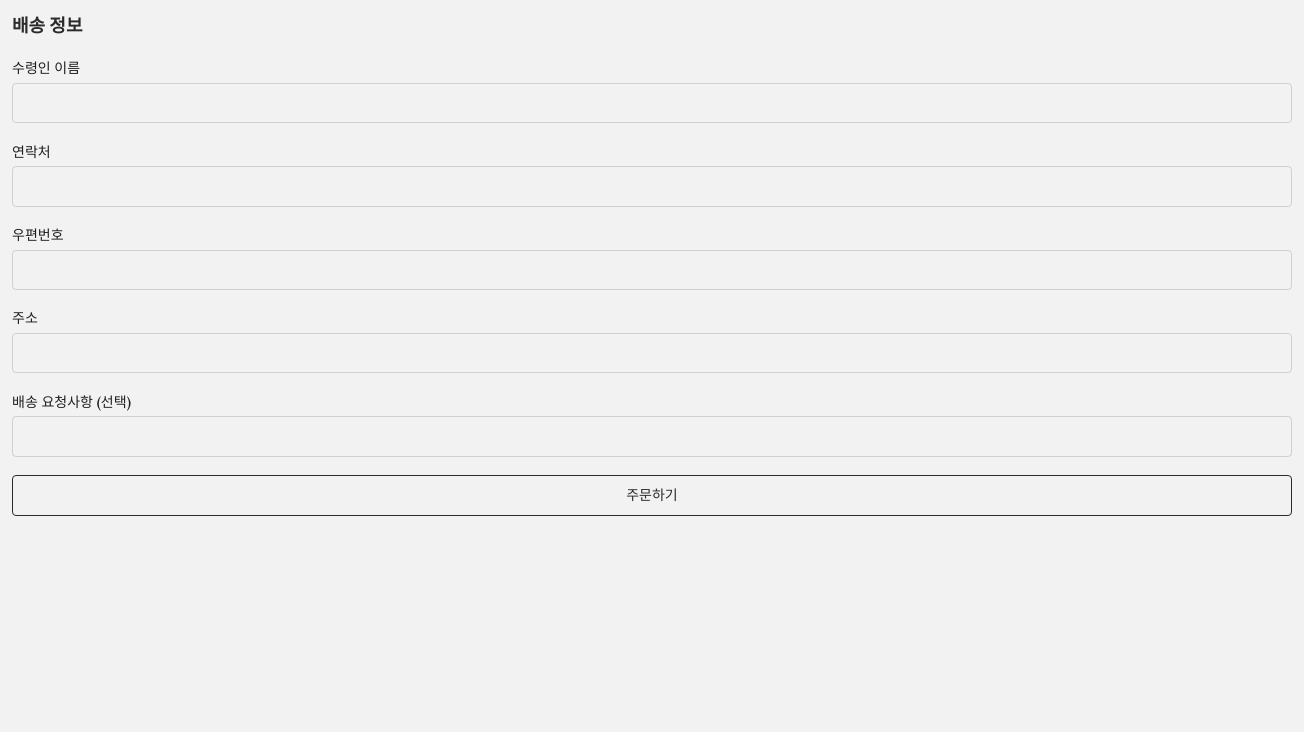
it: SPEC-ORDER-001 — how a refusal reaches the shopper (design.md §8) › says something useful when the request never reaches the server
Type "홍길동" into the field labelled "수령인 이름" at (652, 103), box 12,83 -> 1292,123
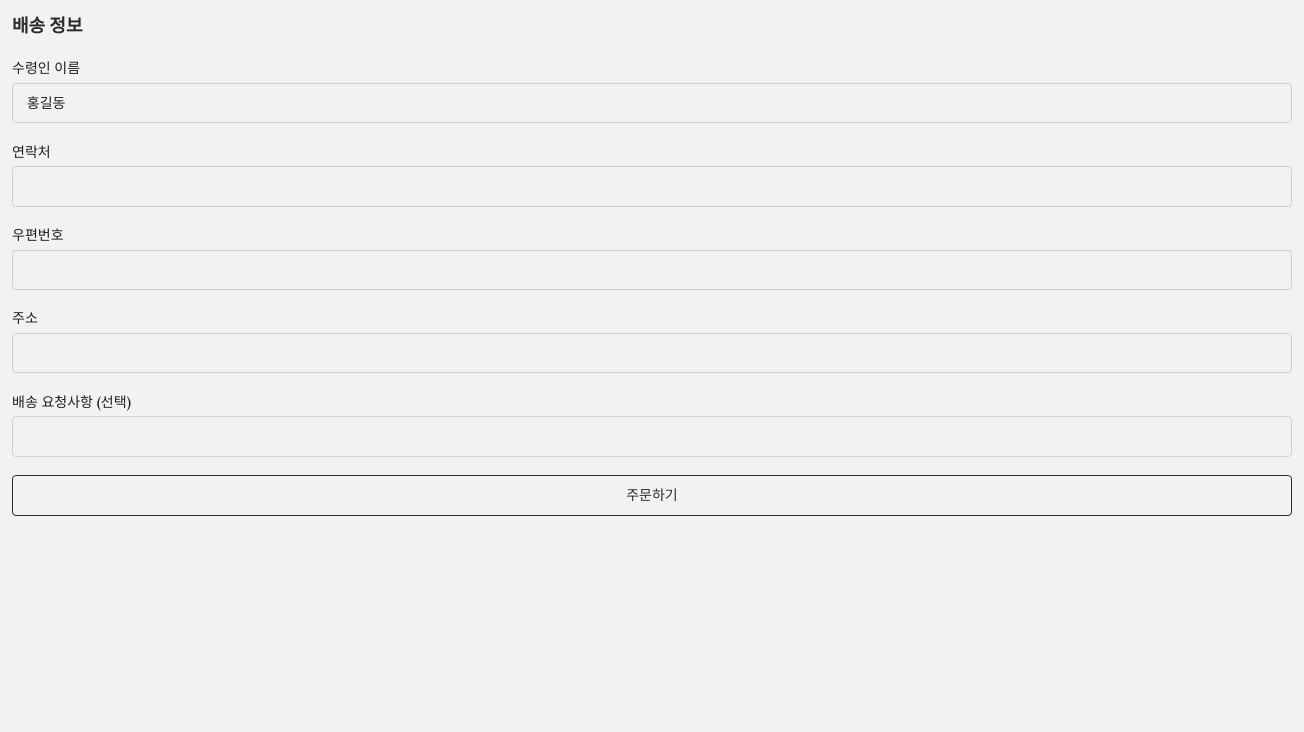
Type "010-1234-5678" into the field labelled "연락처" at (652, 186), box 12,166 -> 1292,207
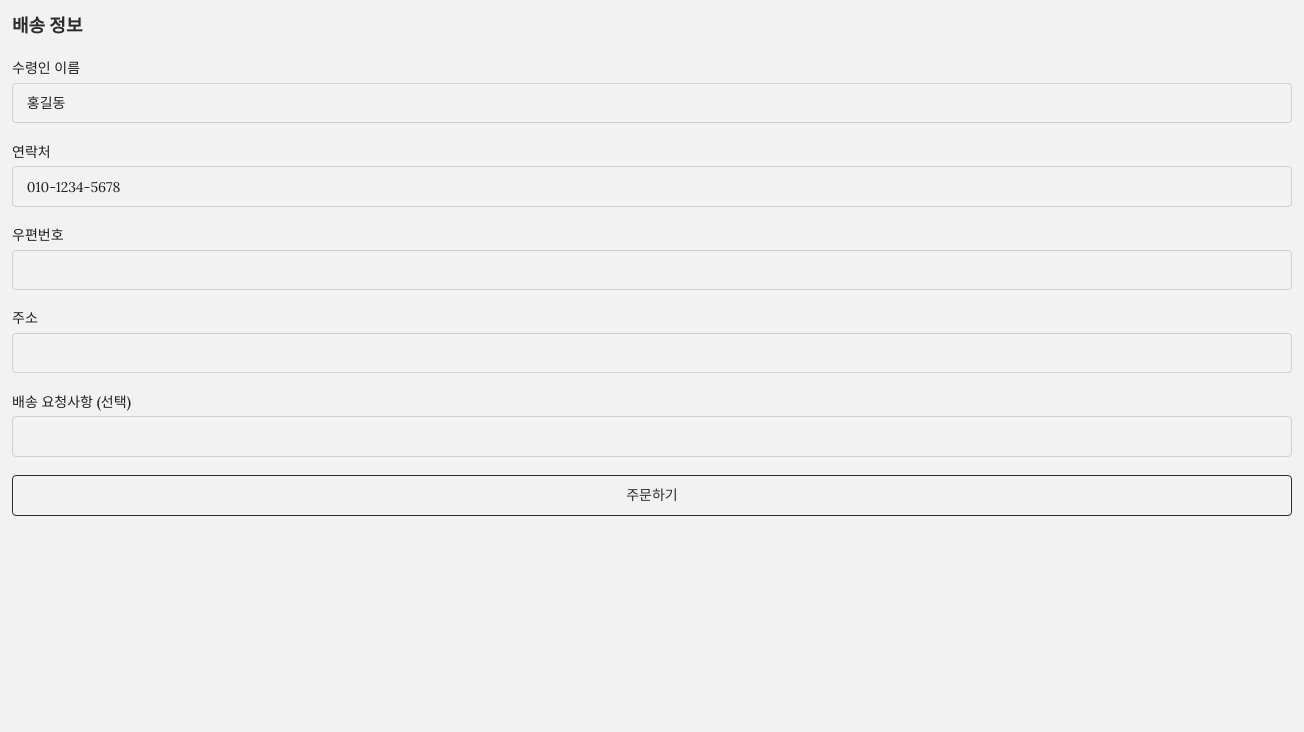
Type "06236" into the field labelled "우편번호" at (652, 270), box 12,250 -> 1292,290
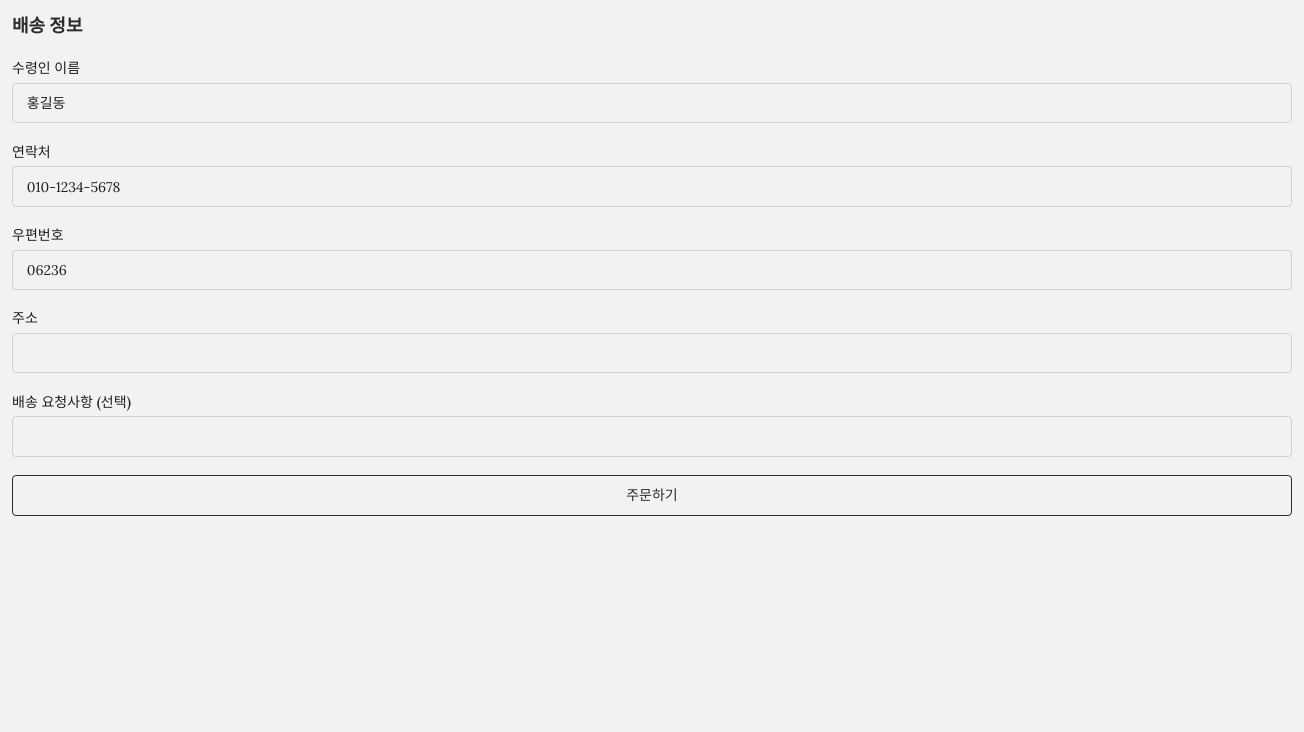
Type "서울시 강남구 테헤란로 1" into the field labelled "주소" at (652, 353), box 12,333 -> 1292,374
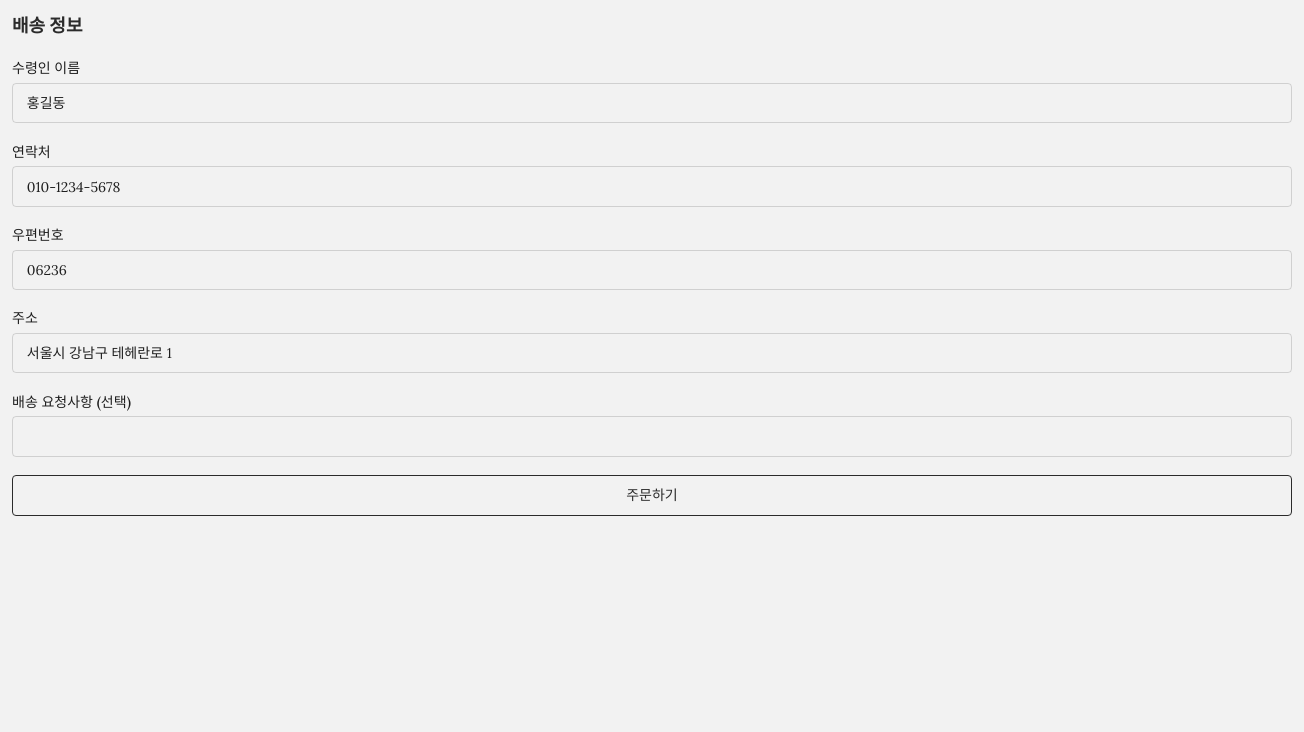
Click the button "주문하기" at (652, 495), box 12,475 -> 1292,516
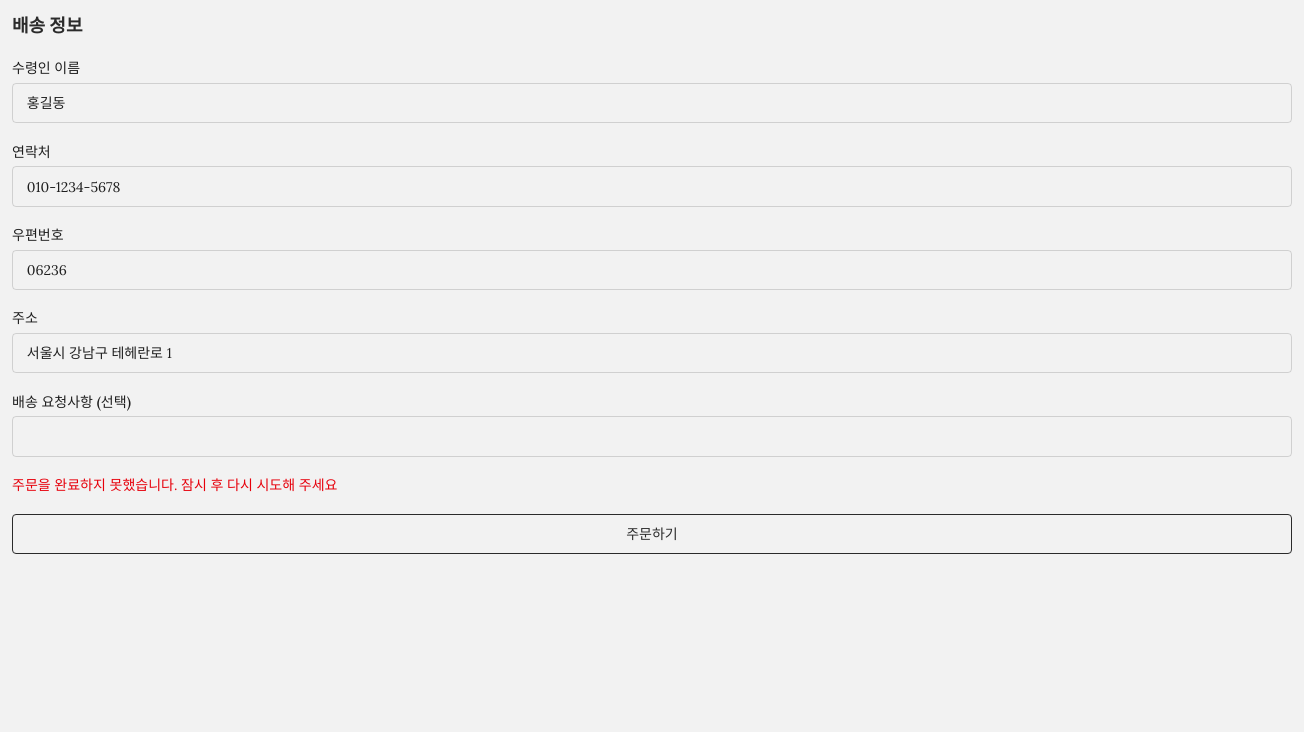
Now the message shows "다시 시도", box 12,476 -> 338,494
